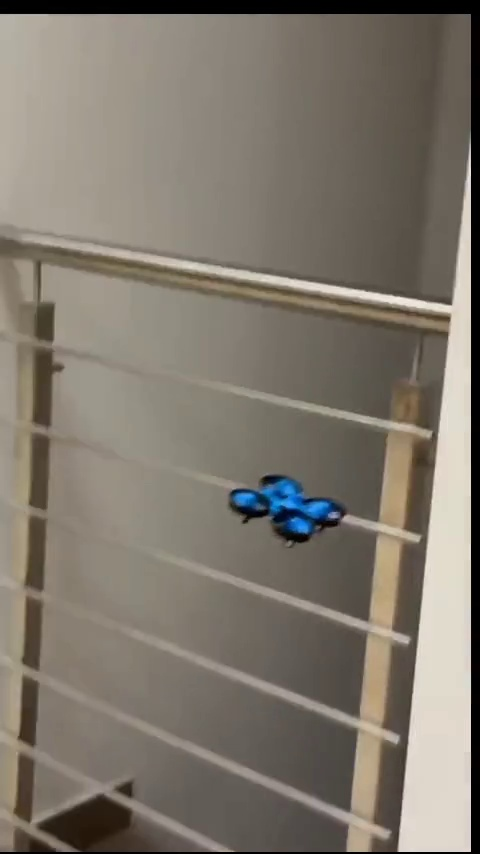drone: (231, 472, 339, 538)
